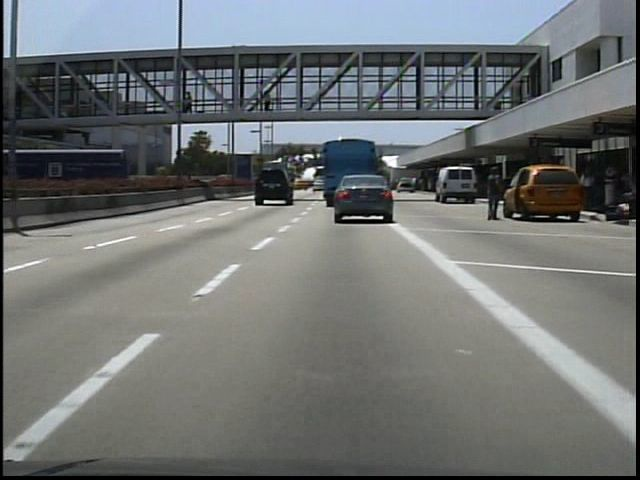person: (482, 164, 507, 224), (261, 89, 277, 120), (183, 89, 198, 117)
